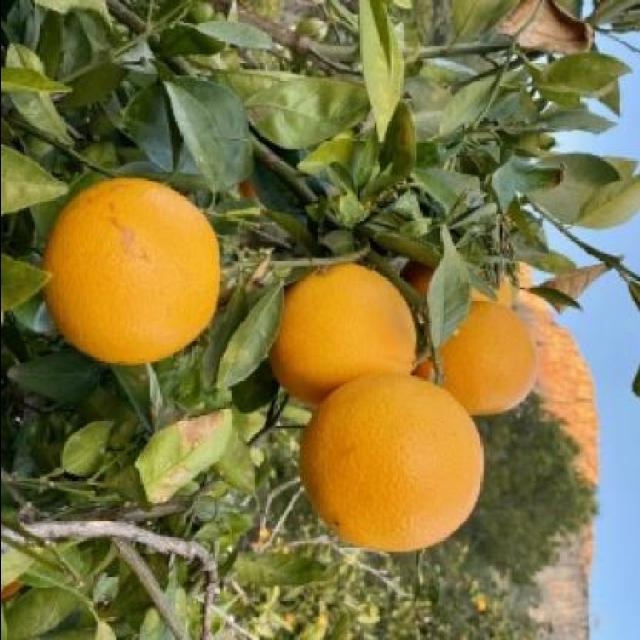Orange: (42, 176, 224, 364), (300, 370, 486, 552), (270, 262, 418, 404)
